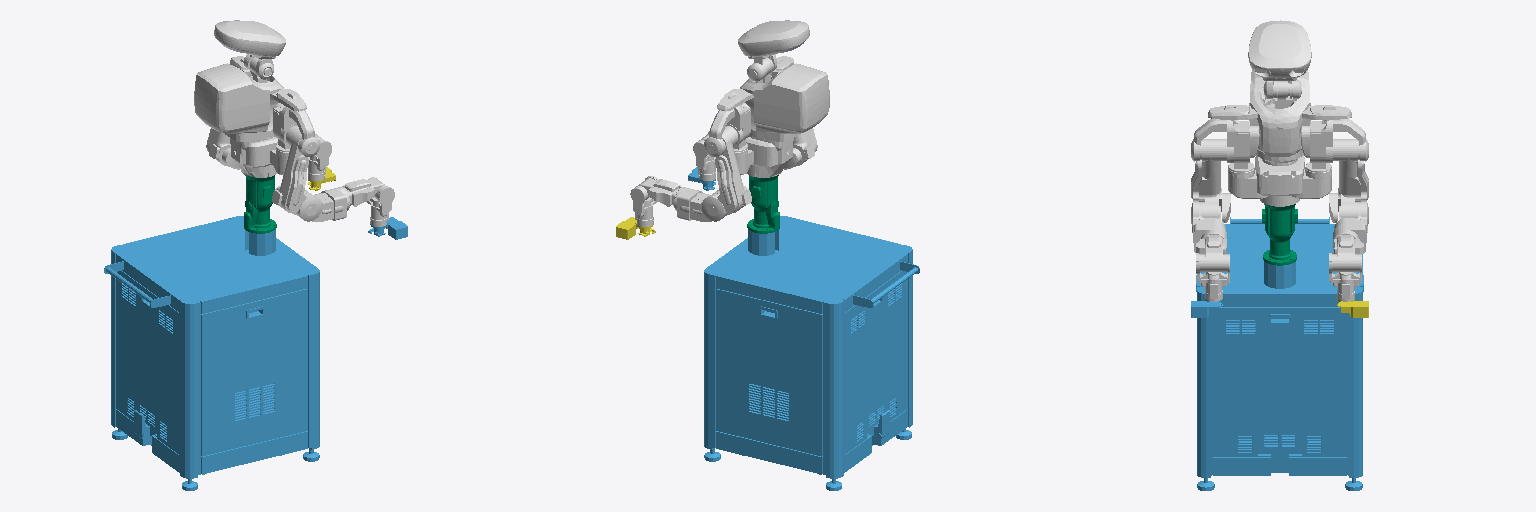
The robot description file, URDF, robot "NextageAOpen":
<?xml version="1.0" ?>
<!-- =================================================================================== -->
<!-- |    This is a newer version of the Nextage robot from Vlad's git repo            | -->
<!-- |    The urdf is compiled from xarco file, which is problematic to pybullet       | -->
<!-- |    This document was autogenerated by xacro from NextageAOpen.urdf.xacro        | -->
<!-- |    EDITING THIS FILE BY HAND IS NOT RECOMMENDED                                 | -->
<!-- |    Note: in this urdf, there are 1 plus joint, 17 in total, "base_to_dummy"     | -->
<!-- =================================================================================== -->
<robot name="NextageAOpen" 
       xmlns:body="http://playerstage.sourceforge.net/gazebo/xmlschema/#body" 
       xmlns:controller="http://playerstage.sourceforge.net/gazebo/xmlschema/#controller" 
       xmlns:gazebo="http://playerstage.sourceforge.net/gazebo/xmlschema/#gz" 
       xmlns:geom="http://playerstage.sourceforge.net/gazebo/xmlschema/#geom" 
       xmlns:interface="http://playerstage.sourceforge.net/gazebo/xmlschema/#interface" 
       xmlns:joint="http://playerstage.sourceforge.net/gazebo/xmlschema/#joint" 
       xmlns:model="http://playerstage.sourceforge.net/gazebo/xmlschema/#model" 
       xmlns:physics="http://playerstage.sourceforge.net/gazebo/xmlschema/#physics" 
       xmlns:renderable="http://playerstage.sourceforge.net/gazebo/xmlschema/#renderable" 
       xmlns:rendering="http://playerstage.sourceforge.net/gazebo/xmlschema/#rendering" 
       xmlns:sensor="http://playerstage.sourceforge.net/gazebo/xmlschema/#sensor" 
       xmlns:xi="http://www.w3.org/2001/xinclude">

  <material name="Black">
    <color rgba="0.0 0.0 0.0 1.0"/>
  </material>
  <material name="Blue">
    <color rgba="0.0 0.0 0.8 1.0"/>
  </material>
  <material name="Green">
    <color rgba="0.0 0.8 0.0 1.0"/>
  </material>
  <material name="LightGrey">
    <color rgba="0.6 0.6 0.6 1.0"/>
  </material>
  <material name="Grey">
    <color rgba="0.4 0.4 0.4 1.0"/>
  </material>
  <material name="DarkGrey">
    <color rgba="0.2 0.2 0.2 1.0"/>
  </material>
  <material name="Red">
    <color rgba="0.8 0.0 0.0 1.0"/>
  </material>
  <material name="White">
    <color rgba="1.0 1.0 1.0 1.0"/>
  </material>

  <link name="base_link"/>

  <joint name="base_to_dummy" type="fixed">
    <parent link="base_link"/>
    <child link="nextage_base"/>
  </joint>

  <link name="nextage_base">
    <visual>
      <origin rpy="0 0 0" xyz="0 0 0"/>
      <geometry>
        <mesh filename="package://nextagea_description/urdf/meshes/BASE_Link_mesh.dae"/>
      </geometry>
    </visual>
    <collision>
      <origin rpy="0 0 0" xyz="-0.19 0 -0.435"/>
      <geometry>
        <box size="0.585 0.585 0.72"/>
      </geometry>
    </collision>
    <collision>
      <origin rpy="0 0 0" xyz="0.0675 0.2575 -0.82"/>
      <geometry>
        <sphere radius="0.03"/>
      </geometry>
    </collision>
    <collision>
      <origin rpy="0 0 0" xyz="0.0675 -0.2575 -0.82"/>
      <geometry>
        <sphere radius="0.03"/>
      </geometry>
    </collision>
    <collision>
      <origin rpy="0 0 0" xyz="-0.4475 0.2575 -0.82"/>
      <geometry>
        <sphere radius="0.03"/>
      </geometry>
    </collision>
    <collision>
      <origin rpy="0 0 0" xyz="-0.4475 -0.2575 -0.82"/>
      <geometry>
        <sphere radius="0.03"/>
      </geometry>
    </collision>
    <inertial>
      <mass value="40"/>
      <origin rpy="0 0 0" xyz="-0.19 0 -0.435"/>
      <inertia ixx="2.86875" ixy="0.0" ixz="0.0" iyy="2.86875" iyz="0.0" izz="2.2815"/>
    </inertial>
  </link>

  <joint name="base_to_waist" type="fixed">
    <parent link="nextage_base"/>
    <child link="WAIST"/>
  </joint>

  <link name="WAIST">
    <visual>
      <origin rpy="0 0 0" xyz="0 0 0"/>
      <geometry>
        <mesh filename="package://nextagea_description/urdf/meshes/WAIST_Link_mesh.dae"/>
      </geometry>
    </visual>
    <collision>
      <origin rpy="0 0 0" xyz="0.0 0 0.098"/>
      <geometry>
        <cylinder length="0.376" radius="0.06"/>
      </geometry>
    </collision>
    <inertial>
      <mass value="5"/>
      <origin rpy="0 0 0" xyz="0 0 0.15"/>
      <inertia ixx="0.05416666666666667" ixy="0.0" ixz="0.0" iyy="0.05416666666666667" iyz="0.0" izz="0.03333333333333334"/>
    </inertial>
  </link>

  <link name="CHEST_JOINT0_Link">
    <visual>
      <origin rpy="0 0 0" xyz="0 0 0"/>
      <geometry>
        <mesh filename="package://nextagea_description/urdf/meshes/CHEST_JOINT0_Link_mesh.dae"/>
      </geometry>
    </visual>
    <collision>
      <origin rpy="0 0 0" xyz="0 0 0.1575"/>
      <geometry>
        <cylinder length="0.385" radius="0.08"/>
      </geometry>
    </collision>
    <collision>
      <origin rpy="0 0 0" xyz="0.04 0.135 0.0423"/>
      <geometry>
        <cylinder length="0.09" radius="0.05"/>
      </geometry>
    </collision>
    <collision>
      <origin rpy="0 0 0" xyz="0.04 -0.135 0.0423"/>
      <geometry>
        <cylinder length="0.09" radius="0.05"/>
      </geometry>
    </collision>
    <collision>
      <origin rpy="0 0 0" xyz="0 0 0.055"/>
      <geometry>
        <box size="0.23 0.18 0.12"/>
      </geometry>
    </collision>
    <collision>
      <origin rpy="0 0 0" xyz="-0.04 0 0.2325"/>
      <geometry>
        <box size="0.25 0.18 0.245"/>
      </geometry>
    </collision>
    <collision>
      <origin rpy="0 0 0" xyz="-0.1525 0 0.279"/>
      <geometry>
        <box size="0.17 0.29 0.225"/>
      </geometry>
    </collision>
    <collision>
      <origin rpy="0 0 0" xyz="0.03 0 0.315"/>
      <geometry>
        <box size="0.085 0.5 0.0365"/>
      </geometry>
    </collision>
    <inertial>
      <mass value="10.0"/>
      <origin rpy="0 -0 0" xyz="0 0 0.2"/>
      <inertia ixx="0.12708333333333333" ixy="0.0" ixz="0.0" iyy="0.12708333333333333" iyz="0.0" izz="0.10416666666666667"/>
    </inertial>
  </link>

  <link name="HEAD_JOINT0_Link">
    <visual>
      <origin rpy="0 0 0" xyz="0 0 0"/>
      <geometry>
        <mesh filename="package://nextagea_description/urdf/meshes/HEAD_JOINT0_Link_mesh.dae"/>
      </geometry>
    </visual>
    <collision>
      <origin rpy="1.57079 0 0" xyz="0 0.01 0.08"/>
      <geometry>
        <cylinder length="0.135" radius="0.035"/>
      </geometry>
    </collision>
    <inertial>
      <mass value="0.317929"/>
      <origin rpy="0 -0 0" xyz="0 0.00547848 0"/>
      <inertia ixx="0.0005298816666666668" ixy="0.0" ixz="0.0" iyy="0.0005298816666666668" iyz="0.0" izz="0.0005298816666666668"/>
    </inertial>
  </link>

  <link name="HEAD_JOINT1_Link">
    <visual>
      <origin rpy="0 0 0" xyz="0 0 0"/>
      <geometry>
        <mesh filename="package://nextagea_description/urdf/meshes/HEAD_JOINT1_Link_mesh.dae"/>
      </geometry>
    </visual>
    <collision>
      <origin rpy="0 0.26 0" xyz="-0.05 0 0.12"/>
      <geometry>
        <box size="0.27 0.22 0.115"/>
      </geometry>
    </collision>
    <inertial>
      <mass value="0.4"/>
      <origin rpy="0 0.26 0" xyz="-0.05 0 0.12"/>
      <inertia ixx="0.002054166666666667" ixy="0.0" ixz="0.0" iyy="0.0028708333333333333" iyz="0.0" izz="0.004043333333333334"/>
    </inertial>
  </link>

  <link name="LARM_JOINT0_Link">
    <visual>
      <origin rpy="0 0 0" xyz="0 0 0"/>
      <geometry>
        <mesh filename="package://nextagea_description/urdf/meshes/LARM_JOINT0_Link_mesh.dae"/>
      </geometry>
    </visual>
    <collision>
      <origin rpy="0 0 0" xyz="0 0.00775 0.095"/>
      <geometry>
        <box size="0.1 0.0815 0.19"/>
      </geometry>
    </collision>
    <collision>
      <origin rpy="1.57079 0 0" xyz="0 0.0875 0.066"/>
      <geometry>
        <cylinder length="0.175" radius="0.042"/>
      </geometry>
    </collision>
    <collision>
      <origin rpy="-0.7 0 0" xyz="0 0.125 0.145"/>
      <geometry>
        <box size="0.048 0.1 0.035"/>
      </geometry>
    </collision>
    <inertial>
      <mass value="1.32626"/>
      <origin rpy="0 -0 0" xyz="0.0 0.05 0.05"/>
      <inertia ixx="0.00207537" ixy="0.00011276" ixz="8.927e-05" iyy="0.00240295" iyz="-4.57e-05" izz="0.00141912"/>
    </inertial>
  </link>

  <link name="LARM_JOINT1_Link">
    <visual>
      <origin rpy="0 0 0" xyz="0 0 0"/>
      <geometry>
        <mesh filename="package://nextagea_description/urdf/meshes/LARM_JOINT1_Link_mesh.dae"/>
      </geometry>
    </visual>
    <collision>
      <origin rpy="0 0.3 0" xyz="-0.043 0.12 -0.13"/>
      <geometry>
        <box size="0.08 0.11 0.28"/>
      </geometry>
    </collision>
    <collision>
      <origin rpy="0 0.45 0" xyz="-0.03 0.0518 -0.236"/>
      <geometry>
        <box size="0.122 0.0338 0.062"/>
      </geometry>
    </collision>
    <inertial>
      <mass value="1.14898"/>
      <origin rpy="0 -0 0" xyz="-0.04 0.1 -0.12"/>
      <inertia ixx="0.0154168" ixy="9.95417e-07" ixz="3.38147e-06" iyy="0.0147117" iyz="0.00213719" izz="0.0012658"/>
    </inertial>
  </link>

  <link name="LARM_JOINT2_Link">
    <visual>
      <origin rpy="0 0 0" xyz="0 0 0"/>
      <geometry>
        <mesh filename="package://nextagea_description/urdf/meshes/LARM_JOINT2_Link_mesh.dae"/>
      </geometry>
    </visual>
    <collision>
      <origin rpy="1.57079 0 0" xyz="0 0.025 0"/>
      <geometry>
        <cylinder length="0.11" radius="0.049"/>
      </geometry>
    </collision>
    <collision>
      <origin rpy="0 0 0" xyz="0.0945 0.015 -0.03"/>
      <geometry>
        <box size="0.119 0.125 0.1"/>
      </geometry>
    </collision>
    <collision>
      <origin rpy="0 1.57079 0" xyz="0.17 0 -0.03"/>
      <geometry>
        <cylinder length="0.04" radius="0.047"/>
      </geometry>
    </collision>
    <inertial>
      <mass value="0.577518"/>
      <origin rpy="0 -0 0" xyz="0.1 0.01167107 -0.04"/>
      <inertia ixx="0.00143966" ixy="-3e-07" ixz="1.2e-06" iyy="0.00141763" iyz="-7.596e-05" izz="0.0001972"/>
    </inertial>
  </link>

  <link name="LARM_JOINT3_Link">
    <visual>
      <origin rpy="0 0 0" xyz="0 0 0"/>
      <geometry>
        <mesh filename="package://nextagea_description/urdf/meshes/LARM_JOINT3_Link_mesh.dae"/>
      </geometry>
    </visual>
    <collision>
      <origin rpy="1.57079 0 0" xyz="0.1495 -0.003 0"/>
      <geometry>
        <cylinder length="0.12" radius="0.035"/>
      </geometry>
    </collision>
    <collision>
      <origin rpy="0 1.57079 0" xyz="0.075 0.0 0.018"/>
      <geometry>
        <cylinder length="0.15" radius="0.04"/>
      </geometry>
    </collision>
    <collision>
      <origin rpy="0 0 0" xyz="0.0585 0.01 0.0185"/>
      <geometry>
        <box size="0.093 0.112 0.037"/>
      </geometry>
    </collision>
    <inertial>
      <mass value="0.457418"/>
      <origin rpy="0 -0 0" xyz="0.1 -0.00395812 -0.00273"/>
      <inertia ixx="0.00069205" ixy="3e-08" ixz="5.2e-07" iyy="0.00068903" iyz="-1.915e-05" izz="0.00013509"/>
    </inertial>
  </link>

  <link name="LARM_JOINT4_Link">
    <visual>
      <origin rpy="0 0 0" xyz="0 0 0"/>
      <geometry>
        <mesh filename="package://nextagea_description/urdf/meshes/LARM_JOINT4_Link_mesh.dae"/>
      </geometry>
    </visual>
    <collision>
      <origin rpy="0 0 0" xyz="0 -0.002 -0.06"/>
      <geometry>
        <box size="0.04 0.118 0.06"/>
      </geometry>
    </collision>
    <collision>
      <origin rpy="0 0 0" xyz="0 0 -0.08"/>
      <geometry>
        <cylinder length="0.08" radius="0.037"/>
      </geometry>
    </collision>
    <inertial>
      <mass value="0.418434"/>
      <origin rpy="0 -0 0" xyz="0.00243131 0.00379733 -0.0577036"/>
      <inertia ixx="0.00052016" ixy="1.69e-06" ixz="7.9e-06" iyy="0.00050569" iyz="-5.377e-05" izz="0.00014004"/>
    </inertial>
  </link>

  <link name="LARM_JOINT5_Link">
    <visual>
      <origin rpy="0 0 0" xyz="0 0 0"/>
      <geometry>
        <mesh filename="package://nextagea_description/urdf/meshes/LARM_JOINT5_Link_mesh.dae"/>
      </geometry>
    </visual>
    <visual>
      <origin rpy="0 0 0" xyz="0 0 0"/>
      <geometry>
        <mesh filename="package://nextagea_description/urdf/meshes/L_CAM.dae"/>
      </geometry>
    </visual>
    <collision>
      <origin rpy="0 0 0" xyz="0 0 -0.02"/>
      <geometry>
        <cylinder length="0.07" radius="0.037"/>
      </geometry>
    </collision>
    <collision>
      <origin rpy="0 0 0" xyz="0.0525 0.029 -0.02"/>
      <geometry>
        <box size="0.057 0.106 0.042"/>
      </geometry>
    </collision>
    <inertial>
      <mass value="1.05156"/>
      <origin rpy="0 -0 0" xyz="0.0 0.0 -0.08"/>
      <inertia ixx="0.00194072" ixy="1.1e-07" ixz="-0.00042482" iyy="0.00209392" iyz="1.2e-07" izz="0.00035788"/>
    </inertial>
  </link>

  <link name="RARM_JOINT0_Link">
    <visual>
      <origin rpy="0 0 0" xyz="0 0 0"/>
      <geometry>
        <mesh filename="package://nextagea_description/urdf/meshes/RARM_JOINT0_Link_mesh.dae"/>
      </geometry>
    </visual>
    <collision>
      <origin rpy="0 0 0" xyz="0 -0.00775 0.095"/>
      <geometry>
        <box size="0.1 0.0815 0.19"/>
      </geometry>
    </collision>
    <collision>
      <origin rpy="1.57079 0 0" xyz="0 -0.0875 0.066"/>
      <geometry>
        <cylinder length="0.175" radius="0.042"/>
      </geometry>
    </collision>
    <collision>
      <origin rpy="0.7 0 0" xyz="0 -0.125 0.145"/>
      <geometry>
        <box size="0.048 0.1 0.035"/>
      </geometry>
    </collision>
    <inertial>
      <mass value="1.32626"/>
      <origin rpy="0 -0 0" xyz="0.0 -0.05 0.05"/>
      <inertia ixx="0.00207537" ixy="-0.00011276" ixz="8.927e-05" iyy="0.00240295" iyz="4.57e-05" izz="0.00141912"/>
    </inertial>
  </link>

  <link name="RARM_JOINT1_Link">
    <visual>
      <origin rpy="0 0 0" xyz="0 0 0"/>
      <geometry>
        <mesh filename="package://nextagea_description/urdf/meshes/RARM_JOINT1_Link_mesh.dae"/>
      </geometry>
    </visual>
    <collision>
      <origin rpy="0 0.3 0" xyz="-0.043 -0.12 -0.13"/>
      <geometry>
        <box size="0.08 0.11 0.28"/>
      </geometry>
    </collision>
    <collision>
      <origin rpy="0 0.45 0" xyz="-0.03 -0.0518 -0.236"/>
      <geometry>
        <box size="0.122 0.0338 0.062"/>
      </geometry>
    </collision>
    <inertial>
      <mass value="1.14898"/>
      <origin rpy="0 -0 0" xyz="-0.04 -0.1 -0.12"/>
      <inertia ixx="0.0154168" ixy="-9.95417e-07" ixz="3.38147e-06" iyy="0.0147117" iyz="-0.00213719" izz="0.0012658"/>
    </inertial>
  </link>

  <link name="RARM_JOINT2_Link">
    <visual>
      <origin rpy="0 0 0" xyz="0 0 0"/>
      <geometry>
        <mesh filename="package://nextagea_description/urdf/meshes/RARM_JOINT2_Link_mesh.dae"/>
      </geometry>
    </visual>
    <collision>
      <origin rpy="1.57079 0 0" xyz="0 -0.025 0"/>
      <geometry>
        <cylinder length="0.11" radius="0.049"/>
      </geometry>
    </collision>
    <collision>
      <origin rpy="0 0 0" xyz="0.0945 -0.015 -0.03"/>
      <geometry>
        <box size="0.119 0.125 0.1"/>
      </geometry>
    </collision>
    <collision>
      <origin rpy="0 1.57079 0" xyz="0.17 0 -0.03"/>
      <geometry>
        <cylinder length="0.04" radius="0.047"/>
      </geometry>
    </collision>
    <inertial>
      <mass value="0.577518"/>
      <origin rpy="0 -0 0" xyz="0.1 -0.01167107 -0.04"/>
      <inertia ixx="0.00143966" ixy="3e-07" ixz="1.2e-06" iyy="0.00141763" iyz="7.596e-05" izz="0.0001972"/>
    </inertial>
  </link>

  <link name="RARM_JOINT3_Link">
    <visual>
      <origin rpy="0 0 0" xyz="0 0 0"/>
      <geometry>
        <mesh filename="package://nextagea_description/urdf/meshes/RARM_JOINT3_Link_mesh.dae"/>
      </geometry>
    </visual>
    <collision>
      <origin rpy="1.57079 0 0" xyz="0.1495 -0.003 0"/>
      <geometry>
        <cylinder length="0.12" radius="0.035"/>
      </geometry>
    </collision>
    <collision>
      <origin rpy="0 1.57079 0" xyz="0.075 0.0 0.018"/>
      <geometry>
        <cylinder length="0.15" radius="0.04"/>
      </geometry>
    </collision>
    <collision>
      <origin rpy="0 0 0" xyz="0.0585 -0.01 0.0185"/>
      <geometry>
        <box size="0.093 0.112 0.037"/>
      </geometry>
    </collision>
    <inertial>
      <mass value="0.457418"/>
      <origin rpy="0 -0 0" xyz="0.1 0.00395812 -0.00273"/>
      <inertia ixx="0.00069205" ixy="-3e-08" ixz="5.2e-07" iyy="0.00068903" iyz="1.915e-05" izz="0.00013509"/>
    </inertial>
  </link>

  <link name="RARM_JOINT4_Link">
    <visual>
      <origin rpy="0 0 0" xyz="0 0 0"/>
      <geometry>
        <mesh filename="package://nextagea_description/urdf/meshes/RARM_JOINT4_Link_mesh.dae"/>
      </geometry>
    </visual>
    <collision>
      <origin rpy="0 0 0" xyz="0 -0.002 -0.06"/>
      <geometry>
        <box size="0.04 0.118 0.06"/>
      </geometry>
    </collision>
    <collision>
      <origin rpy="0 0 0" xyz="0 0 -0.08"/>
      <geometry>
        <cylinder length="0.08" radius="0.037"/>
      </geometry>
    </collision>
    <inertial>
      <mass value="0.418434"/>
      <origin rpy="0 -0 0" xyz="0.00243131 -0.00379733 -0.0577036"/>
      <inertia ixx="0.00052016" ixy="-1.69e-06" ixz="7.9e-06" iyy="0.00050569" iyz="5.377e-05" izz="0.00014004"/>
    </inertial>
  </link>

  <link name="RARM_JOINT5_Link">
    <visual>
      <origin rpy="0 0 0" xyz="0 0 0"/>
      <geometry>
        <mesh filename="package://nextagea_description/urdf/meshes/RARM_JOINT5_Link_mesh.dae"/>
      </geometry>
    </visual>
    <visual>
      <origin rpy="0 0 0" xyz="0 0 0"/>
      <geometry>
        <mesh filename="package://nextagea_description/urdf/meshes/R_CAM.dae"/>
      </geometry>
    </visual>
    <collision>
      <origin rpy="0 0 0" xyz="0 0 -0.02"/>
      <geometry>
        <cylinder length="0.07" radius="0.037"/>
      </geometry>
    </collision>
    <collision>
      <origin rpy="0 0 0" xyz="0.0525 -0.029 -0.02"/>
      <geometry>
        <box size="0.057 0.106 0.042"/>
      </geometry>
    </collision>
    <inertial>
      <mass value="1.05156"/>
      <origin rpy="0 -0 0" xyz="0.0 0.0 -0.08"/>
      <inertia ixx="0.00194072" ixy="-1.1e-07" ixz="-0.00042482" iyy="0.00209392" iyz="-1.2e-07" izz="0.00035788"/>
    </inertial>
  </link>

  <joint name="CHEST_JOINT0" type="revolute">
    <parent link="WAIST"/>
    <child link="CHEST_JOINT0_Link"/>
    <origin rpy="0 0 0" xyz="0 0 0.267"/>
    <axis xyz="0 0 1"/>
    <limit effort="100" lower="-3.14159" upper="3.14159" velocity="1.0"/>
    <dynamics damping="0.2" friction="0"/>
  </joint>

  <joint name="HEAD_JOINT0" type="revolute">
    <parent link="CHEST_JOINT0_Link"/>
    <child link="HEAD_JOINT0_Link"/>
    <origin rpy="0 0 0" xyz="0 0 0.302"/>
    <axis xyz="0 0 1"/>
    <limit effort="100" lower="-1.22173" upper="1.22173" velocity="1.0"/>
  </joint>

  <joint name="HEAD_JOINT1" type="revolute">
    <parent link="HEAD_JOINT0_Link"/>
    <child link="HEAD_JOINT1_Link"/>
    <origin rpy="0 0 0" xyz="0 0 0.08"/>
    <axis xyz="0 1 0"/>
    <limit effort="100" lower="-0.401425" upper="1.308997" velocity="1.0"/>
  </joint>

  <joint name="LARM_JOINT0" type="revolute">
    <parent link="CHEST_JOINT0_Link"/>
    <child link="LARM_JOINT0_Link"/>
    <origin rpy="0 0 0" xyz="0.04 0.135 0.1015"/>
    <axis xyz="0 0 1"/>
    <limit effort="150" lower="-1.5707963" upper="1.5707963" velocity="1.0"/>
    <dynamics damping="0.5" friction="0.5"/>
  </joint>

  <joint name="LARM_JOINT1" type="revolute">
    <parent link="LARM_JOINT0_Link"/>
    <child link="LARM_JOINT1_Link"/>
    <origin rpy="0 0 0" xyz="0 0 0.066"/>
    <axis xyz="0 1 0"/>
    <limit effort="150" lower="-2.44346" upper="1.0471975" velocity="1.0"/>
    <dynamics damping="0.5" friction="0.5"/>
  </joint>

  <joint name="LARM_JOINT2" type="revolute">
    <parent link="LARM_JOINT1_Link"/>
    <child link="LARM_JOINT2_Link"/>
    <origin rpy="0 0 0" xyz="0 0.095 -0.25"/>
    <axis xyz="0 1 0"/>
    <limit effort="150" lower="-1.22173" upper="1.5707963" velocity="1.0"/>
    <dynamics damping="0.5" friction="0.5"/>
  </joint>
  
  <joint name="LARM_JOINT3" type="revolute">
    <parent link="LARM_JOINT2_Link"/>
    <child link="LARM_JOINT3_Link"/>
    <origin rpy="0 0 0" xyz="0.1805 0 -0.03"/>
    <axis xyz="1 0 0"/>
    <limit effort="150" lower="-3.1415926" upper="1.7453292" velocity="1.0"/>
    <dynamics damping="0.5" friction="0.5"/>
  </joint>

  <joint name="LARM_JOINT4" type="revolute">
    <parent link="LARM_JOINT3_Link"/>
    <child link="LARM_JOINT4_Link"/>
    <origin rpy="0 0 0" xyz="0.1495 0 0"/>
    <axis xyz="0 1 0"/>
    <limit effort="150" lower="-3.57792" upper="1.134464" velocity="1.0"/>
    <dynamics damping="0.5" friction="0.5"/>
  </joint>

  <joint name="LARM_JOINT5" type="revolute">
    <parent link="LARM_JOINT4_Link"/>
    <child link="LARM_JOINT5_Link"/>
    <origin rpy="0 0 0" xyz="0 0 -0.1335"/>
    <axis xyz="0 0 1"/>
    <limit effort="150" lower="-2.7123889" upper="2.7123889" velocity="1.0"/>
    <dynamics damping="0.5" friction="0.5"/>
  </joint>

  <joint name="RARM_JOINT0" type="revolute">
    <parent link="CHEST_JOINT0_Link"/>
    <child link="RARM_JOINT0_Link"/>
    <origin rpy="0 0 0" xyz="0.04 -0.135 0.1015"/>
    <axis xyz="0 0 1"/>
    <limit effort="150" lower="-1.570796" upper="1.570796" velocity="1.0"/>
    <dynamics damping="0.5" friction="0.5"/>
  </joint>

  <joint name="RARM_JOINT1" type="revolute">
    <parent link="RARM_JOINT0_Link"/>
    <child link="RARM_JOINT1_Link"/>
    <origin rpy="0 0 0" xyz="0 0 0.066"/>
    <axis xyz="0 1 0"/>
    <limit effort="150" lower="-2.44346" upper="1.047197" velocity="1.0"/>
    <dynamics damping="0.5" friction="0.5"/>
  </joint>

  <joint name="RARM_JOINT2" type="revolute">
    <parent link="RARM_JOINT1_Link"/>
    <child link="RARM_JOINT2_Link"/>
    <origin rpy="0 0 0" xyz="0 -0.095 -0.25"/>
    <axis xyz="0 1 0"/>
    <limit effort="150" lower="-1.22173" upper="1.570796" velocity="1.0"/>
    <dynamics damping="0.5" friction="0.5"/>
  </joint>

  <joint name="RARM_JOINT3" type="revolute">
    <parent link="RARM_JOINT2_Link"/>
    <child link="RARM_JOINT3_Link"/>
    <origin rpy="0 0 0" xyz="0.1805 0 -0.03"/>
    <axis xyz="1 0 0"/>
    <limit effort="150" lower="-1.74532" upper="3.141592" velocity="1.0"/>
    <dynamics damping="0.5" friction="0.5"/>
  </joint>

  <joint name="RARM_JOINT4" type="revolute">
    <parent link="RARM_JOINT3_Link"/>
    <child link="RARM_JOINT4_Link"/>
    <origin rpy="0 0 0" xyz="0.1495 0 0"/>
    <axis xyz="0 1 0"/>
    <limit effort="150" lower="-3.5779" upper="1.134464" velocity="1.0"/>
    <dynamics damping="0.5" friction="0.5"/>
  </joint>

  <joint name="RARM_JOINT5" type="revolute">
    <parent link="RARM_JOINT4_Link"/>
    <child link="RARM_JOINT5_Link"/>
    <origin rpy="0 0 0" xyz="0 0 -0.1335"/>
    <axis xyz="0 0 1"/>
    <limit effort="150" lower="-2.712388" upper="2.712388" velocity="1.0"/>
    <dynamics damping="0.5" friction="0.5"/>
  </joint>

</robot>

--- Facts derived from the render (not from the file) ---
3 views of the same robot in one strip: view 1: azimuth 30°, elevation 25°; view 2: azimuth 150°, elevation 25°; view 3: azimuth 270°, elevation 25° (orthographic).
Model NextageAOpen with 18 links and 17 joints (15 revolute, 2 fixed), rooted at base_link, posed all joints at 0.
Links seen in each view (by area): view 1: nextage_base, CHEST_JOINT0_Link, HEAD_JOINT1_Link, RARM_JOINT1_Link, WAIST, RARM_JOINT0_Link, RARM_JOINT2_Link, RARM_JOINT3_Link, LARM_JOINT1_Link, RARM_JOINT4_Link, LARM_JOINT4_Link, RARM_JOINT5_Link; view 2: nextage_base, CHEST_JOINT0_Link, HEAD_JOINT1_Link, LARM_JOINT1_Link, WAIST, LARM_JOINT0_Link, LARM_JOINT2_Link, LARM_JOINT3_Link, RARM_JOINT1_Link, LARM_JOINT4_Link, RARM_JOINT4_Link, LARM_JOINT5_Link; view 3: nextage_base, CHEST_JOINT0_Link, HEAD_JOINT1_Link, LARM_JOINT1_Link, RARM_JOINT1_Link, LARM_JOINT0_Link, RARM_JOINT0_Link, WAIST, LARM_JOINT3_Link, RARM_JOINT3_Link, LARM_JOINT2_Link, RARM_JOINT2_Link (+3 smaller).
Link boxes in pixels (x1,y1,x2,y2): nextage_base: (104,216,319,490); CHEST_JOINT0_Link: (194,56,306,177); HEAD_JOINT1_Link: (214,20,285,79); RARM_JOINT1_Link: (272,124,311,215); WAIST: (244,175,276,233); RARM_JOINT0_Link: (273,103,319,156); RARM_JOINT2_Link: (297,187,346,221); RARM_JOINT3_Link: (340,178,387,210); LARM_JOINT1_Link: (206,128,239,169); RARM_JOINT4_Link: (367,177,394,223); LARM_JOINT4_Link: (308,141,331,177); RARM_JOINT5_Link: (368,217,407,239); nextage_base: (704,216,919,490); CHEST_JOINT0_Link: (717,56,829,177); HEAD_JOINT1_Link: (738,20,809,75); LARM_JOINT1_Link: (712,124,751,215); WAIST: (747,175,779,233); LARM_JOINT0_Link: (704,103,750,156); LARM_JOINT2_Link: (677,187,726,221); LARM_JOINT3_Link: (635,178,683,210); RARM_JOINT1_Link: (784,128,817,169); LARM_JOINT4_Link: (630,176,658,223); RARM_JOINT4_Link: (693,132,715,177); LARM_JOINT5_Link: (616,217,655,239); nextage_base: (1196,217,1363,490); CHEST_JOINT0_Link: (1208,70,1351,206); HEAD_JOINT1_Link: (1248,20,1311,98); LARM_JOINT1_Link: (1329,139,1368,222); RARM_JOINT1_Link: (1191,139,1230,222); LARM_JOINT0_Link: (1300,119,1368,174); RARM_JOINT0_Link: (1191,119,1259,174); WAIST: (1262,204,1297,265); LARM_JOINT3_Link: (1332,232,1363,271); RARM_JOINT3_Link: (1196,232,1227,271); LARM_JOINT2_Link: (1333,201,1368,252); RARM_JOINT2_Link: (1191,201,1226,252).
Bounding box of the posed robot: 1.02 × 0.622 × 1.69 m (x, y, z).
19 mesh visuals loaded from 19 distinct referenced files (19 Collada DAE).
